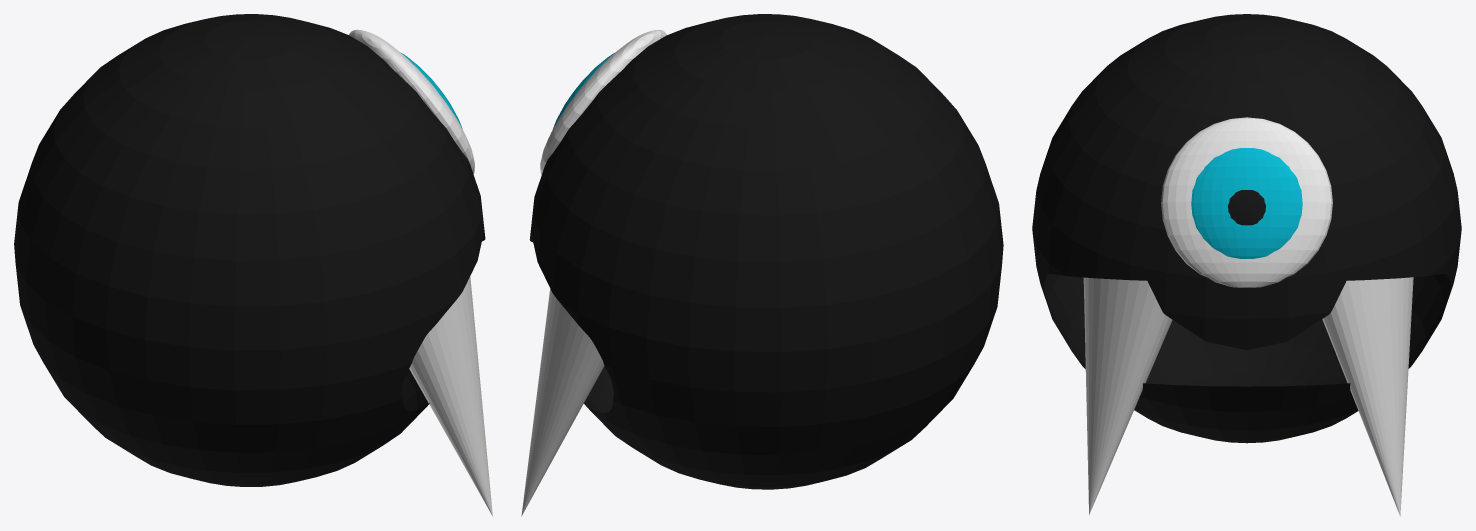
Rendered from carnviore.fbx.
The picture shows the model from 3 angles, left to right: view 1: azimuth 30°, elevation 25°; view 2: azimuth 150°, elevation 25°; view 3: azimuth 270°, elevation 25°; orthographic projection. The views are drawn at different scales.
Visible parts, largest first — view 1: Sphere, Cone, Sphere.001; view 2: Sphere, Cone.001, Sphere.001; view 3: Sphere, Sphere.001, Cone.001, Cone, Sphere.002, Sphere.003.
Boxes of the visible parts, <box> form: Sphere: <box>14,14,485,486</box>; Cone: <box>409,276,492,516</box>; Sphere.001: <box>349,29,474,173</box>; Sphere: <box>529,14,1003,489</box>; Cone.001: <box>521,288,604,516</box>; Sphere.001: <box>540,30,666,174</box>; Sphere: <box>1032,14,1461,443</box>; Sphere.001: <box>1161,117,1332,287</box>; Cone.001: <box>1322,277,1413,515</box>; Cone: <box>1083,277,1172,514</box>; Sphere.002: <box>1191,148,1302,258</box>; Sphere.003: <box>1228,190,1265,225</box>.
Size of the model in its own units: 100 by 106 by 100.
